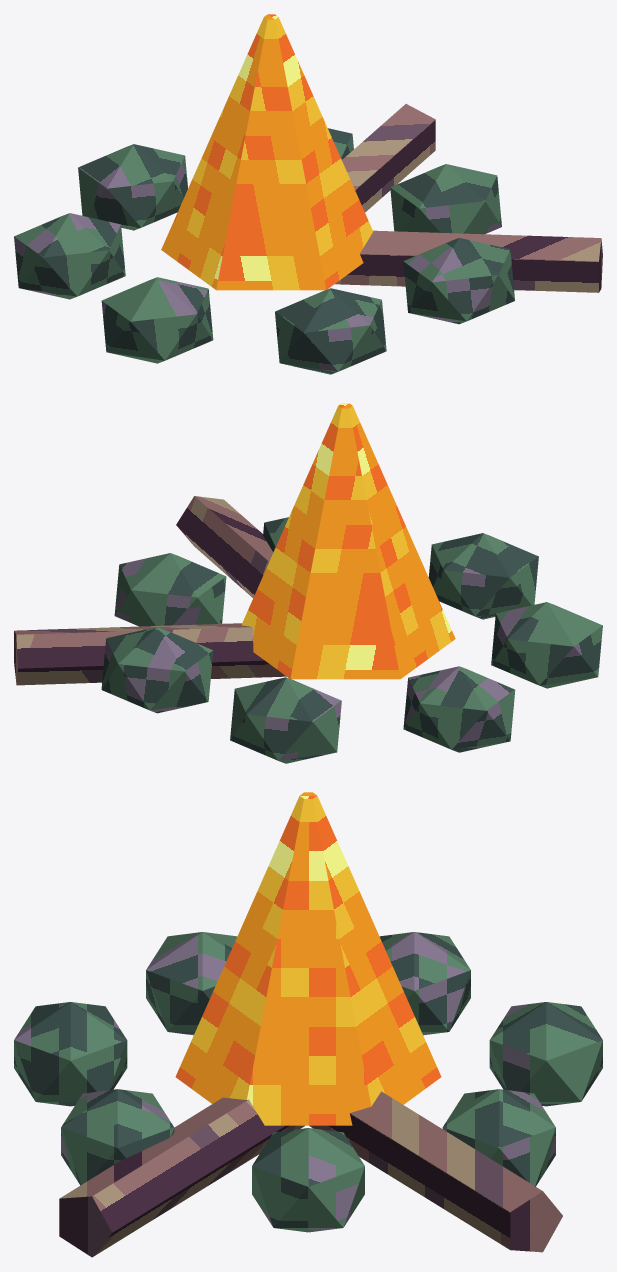
File: a24_fogueira_tribal.glb
The picture shows the model from 3 angles, top to bottom: view 1: azimuth 30°, elevation 25°; view 2: azimuth 150°, elevation 25°; view 3: azimuth 270°, elevation 25°; orthographic projection. The views are drawn at different scales.
Visible parts, largest first — view 1: a24_fogueira_tribal; view 2: a24_fogueira_tribal; view 3: a24_fogueira_tribal.
Part boxes in pixels (<box>): a24_fogueira_tribal: <box>14,14,602,374</box>; a24_fogueira_tribal: <box>14,403,602,763</box>; a24_fogueira_tribal: <box>14,792,602,1257</box>.
Bounding box in the file's own units: 1.44 × 0.83 × 1.33.
3 materials, 3 textured.
